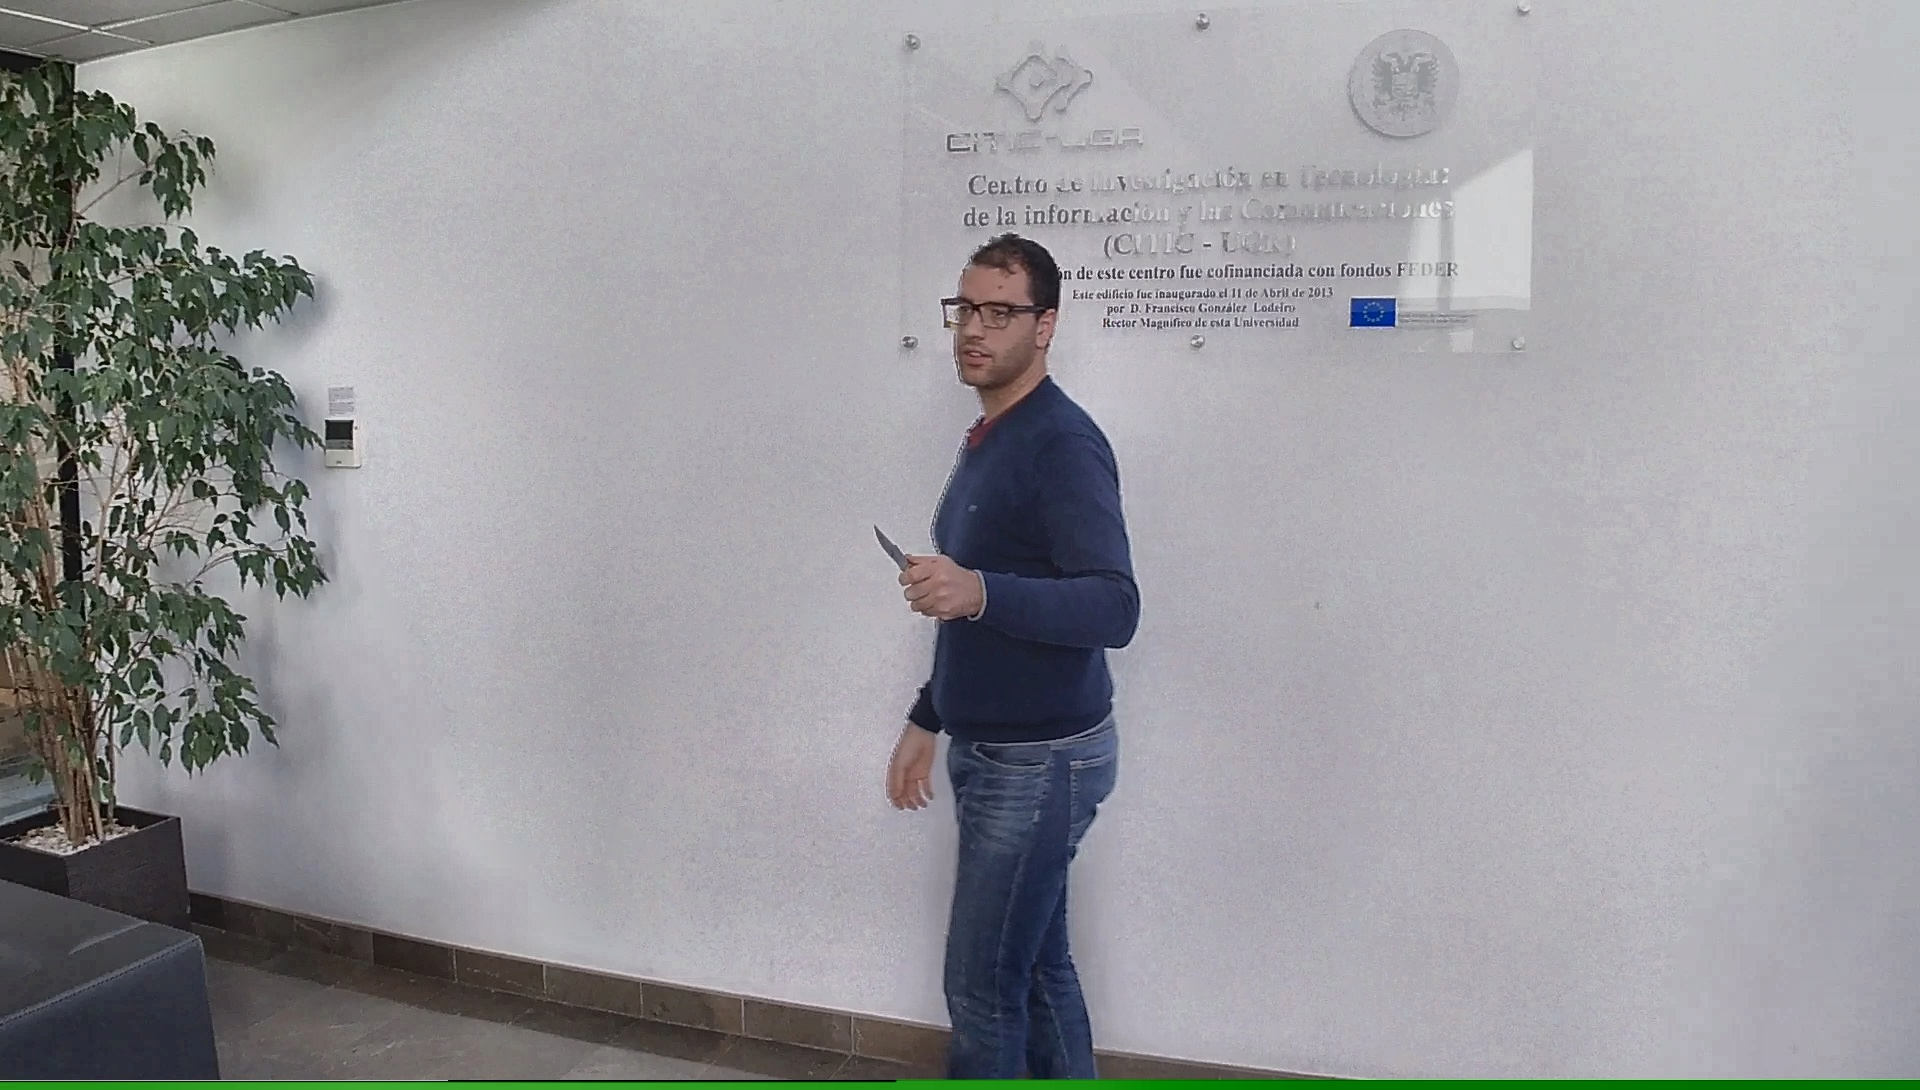knife: (860, 510, 942, 598)
